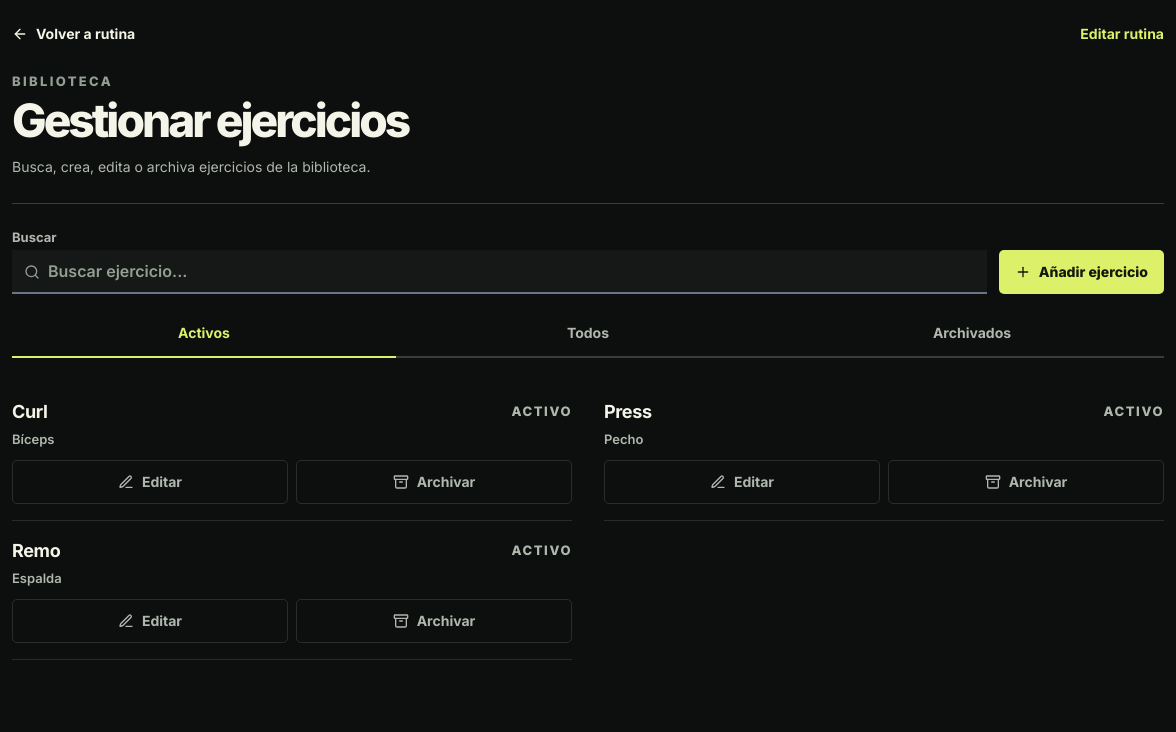
Test case: archiva y activa, pero conserva la restricción de ejercicios en uso
Click the button "Archivar" below "Pecho": click(1026, 482) [888,460,1164,504]
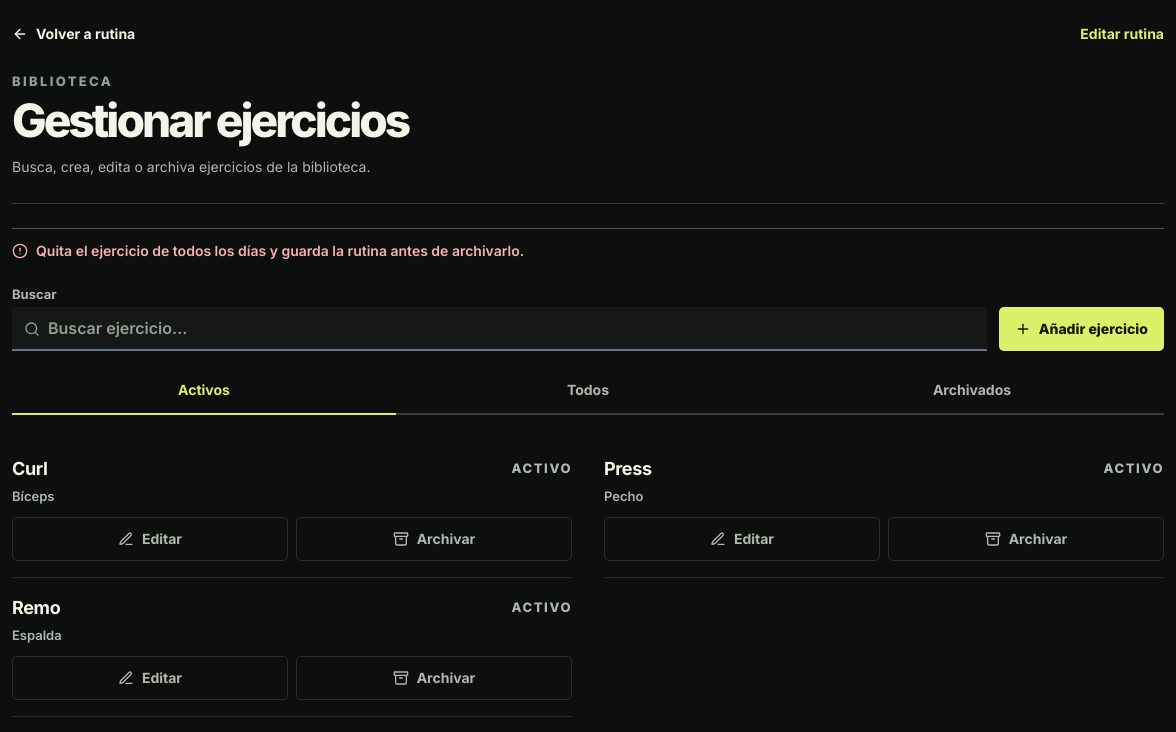
Now the text "Quita el ejercicio de todos los días y guarda la rutina antes de archivarlo." is shown, box [12,228,1164,262]
Click the button "Archivar" below "Bíceps": click(434, 540) [296,518,572,562]
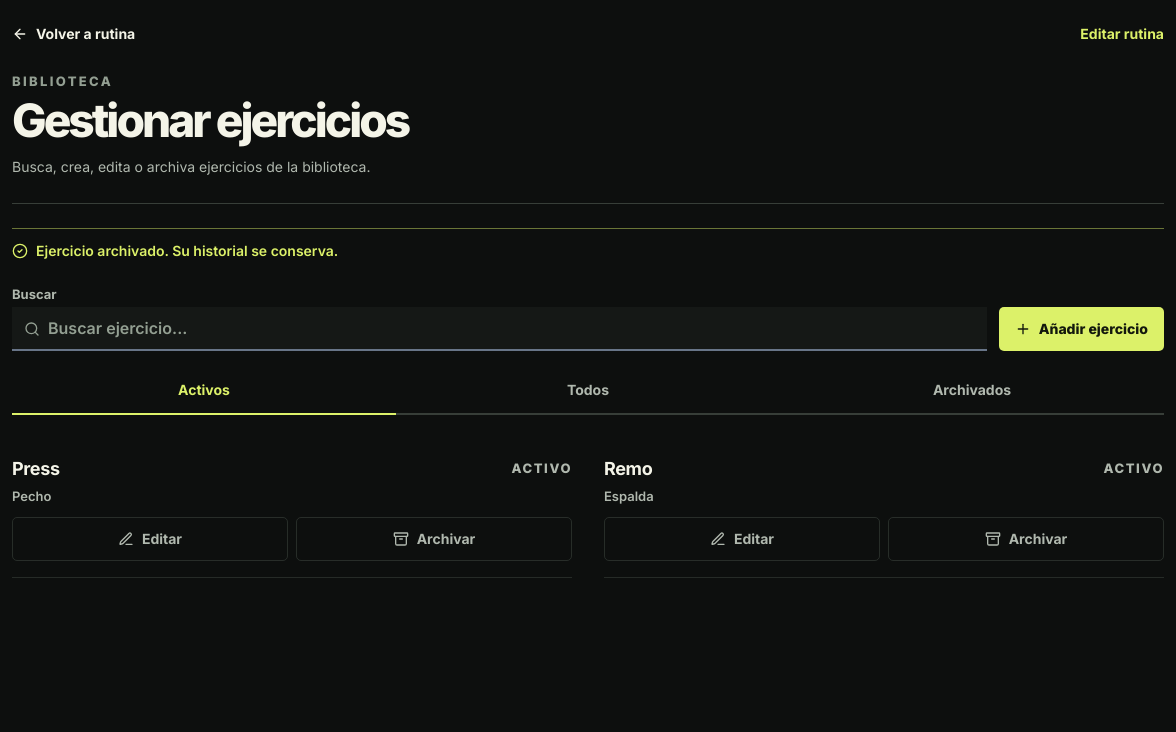
Now the heading "Curl" is gone
Click the button "Archivados": click(972, 392) [780,368,1164,416]
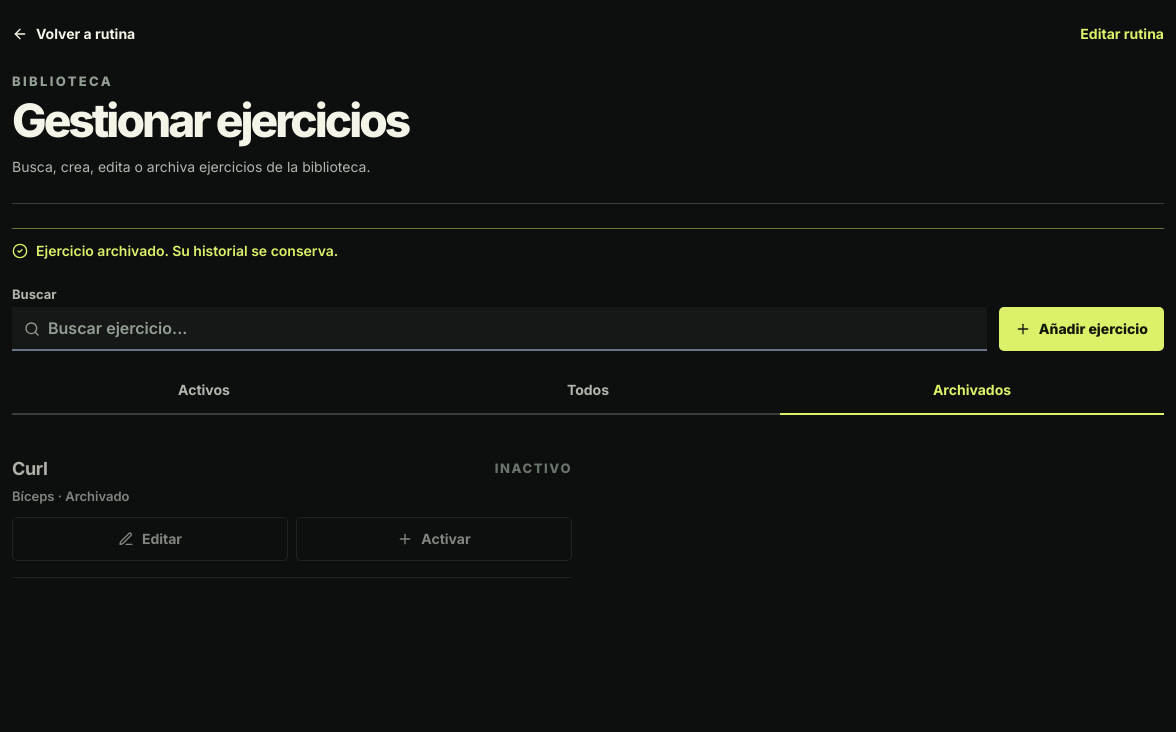
Click the button "Activar": click(434, 540) [296,518,572,562]
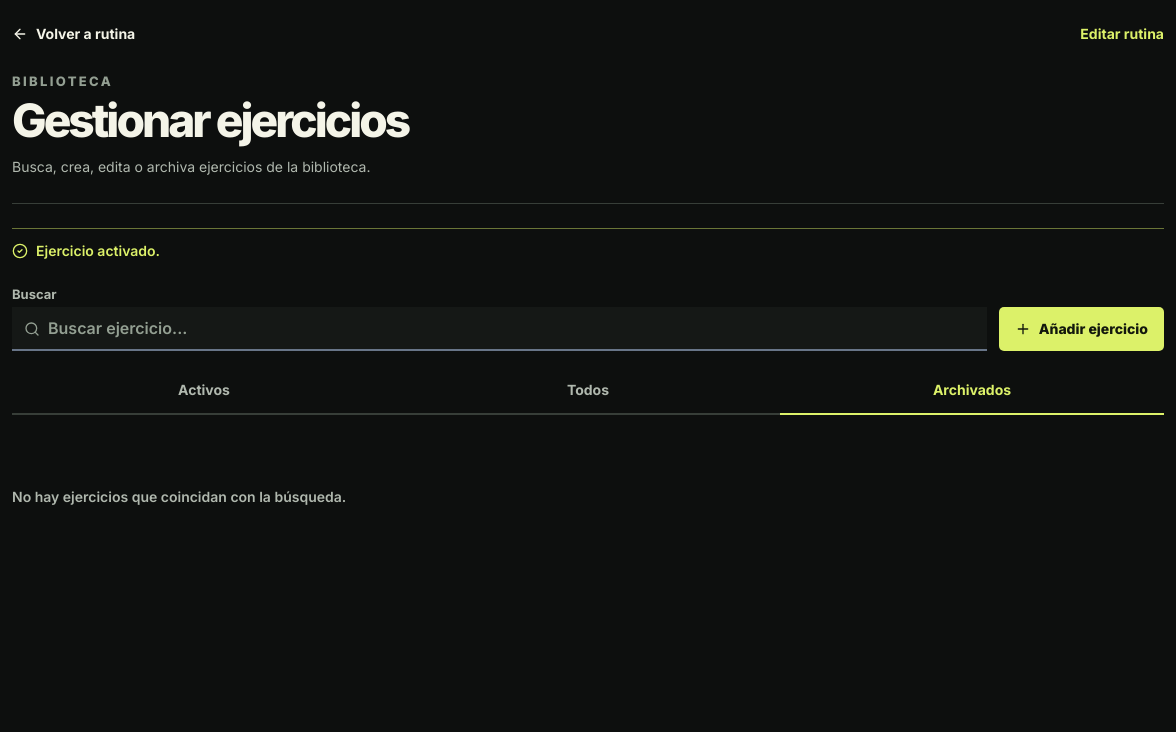
Now the text "Ejercicio activado." is shown, box [12,228,1164,262]
Click the button "Activos": click(204, 392) [12,368,396,416]
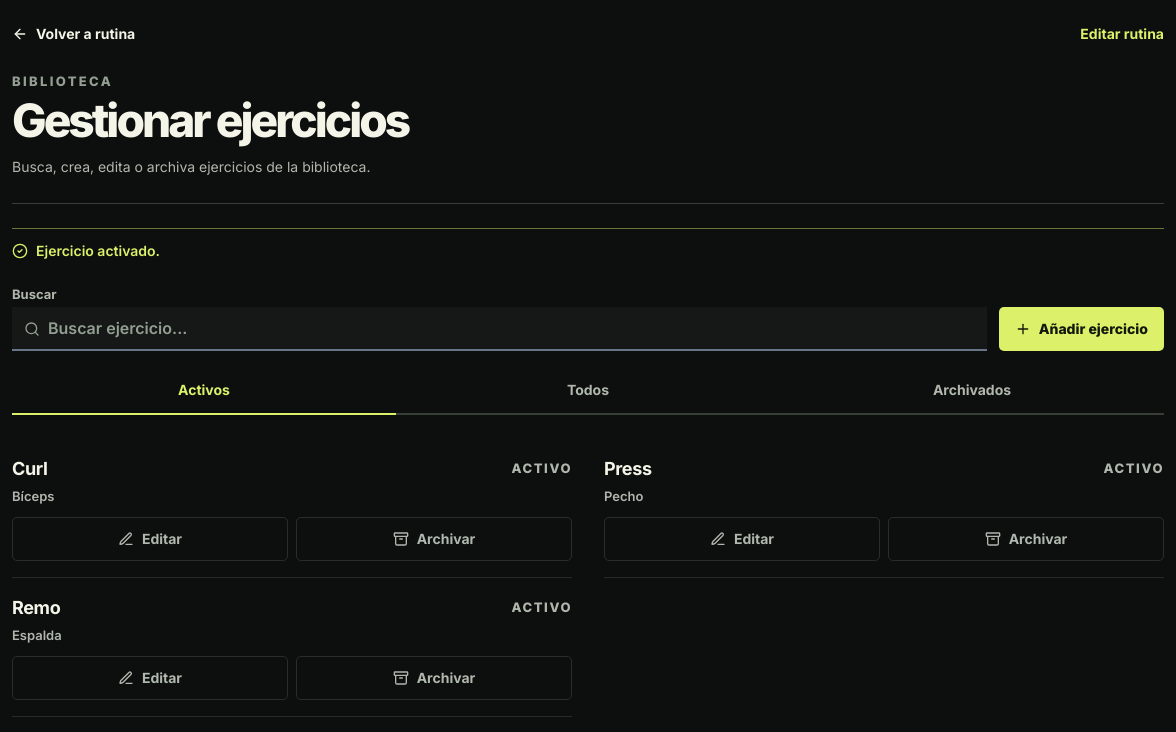
Now the text "Activo" in the row of "Curl" is shown, box [512,460,572,476]
